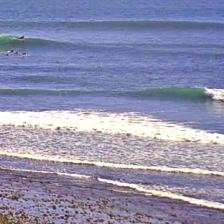surfer: (19, 36, 25, 39), (21, 56, 26, 59), (22, 53, 28, 55), (14, 52, 18, 54), (4, 54, 8, 56), (10, 50, 13, 52)
